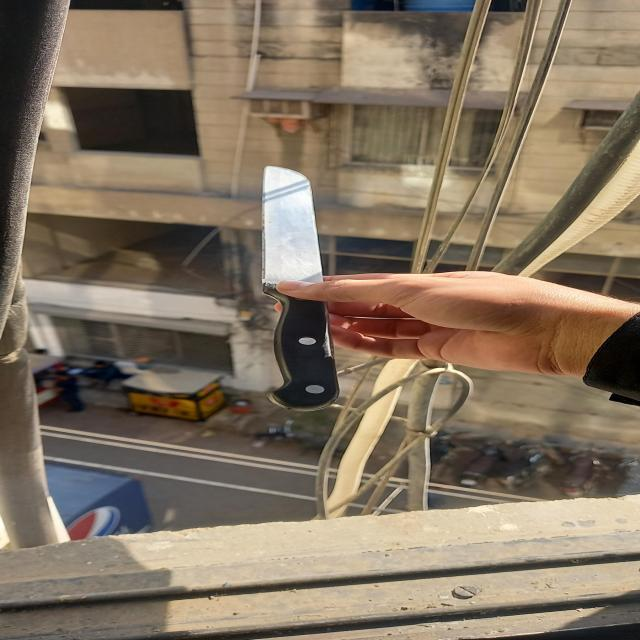faca: (264, 166, 342, 410)
